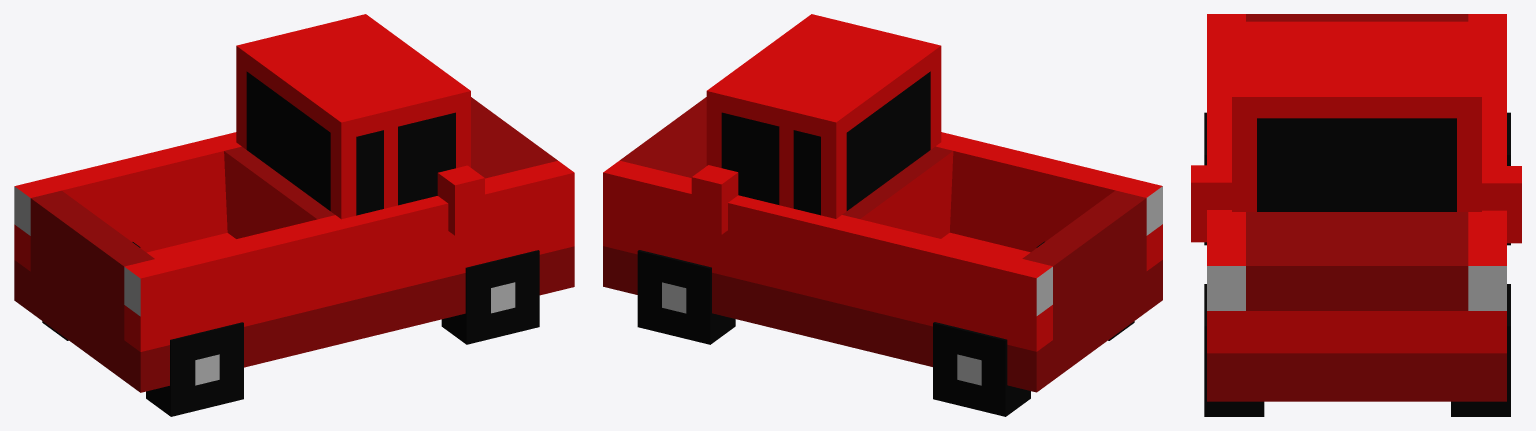
Rendered from TruckRed.fbx.
3 renders of one model, left to right at view 1: azimuth 30°, elevation 25°; view 2: azimuth 150°, elevation 25°; view 3: azimuth 270°, elevation 25°, orthographic. The views are drawn at different scales.
Parts seen in each view (by area): view 1: Truck_copy:RedTruck:pasted__pCube11; view 2: Truck_copy:RedTruck:pasted__pCube11; view 3: Truck_copy:RedTruck:pasted__pCube11.
Part boxes in pixels (left/top/right/bottom): Truck_copy:RedTruck:pasted__pCube11: left=14, top=14, right=574, bottom=416; Truck_copy:RedTruck:pasted__pCube11: left=603, top=14, right=1162, bottom=416; Truck_copy:RedTruck:pasted__pCube11: left=1191, top=14, right=1521, bottom=416.
Bounding box in the file's own units: 0.9035 × 0.4803 × 0.5014.
